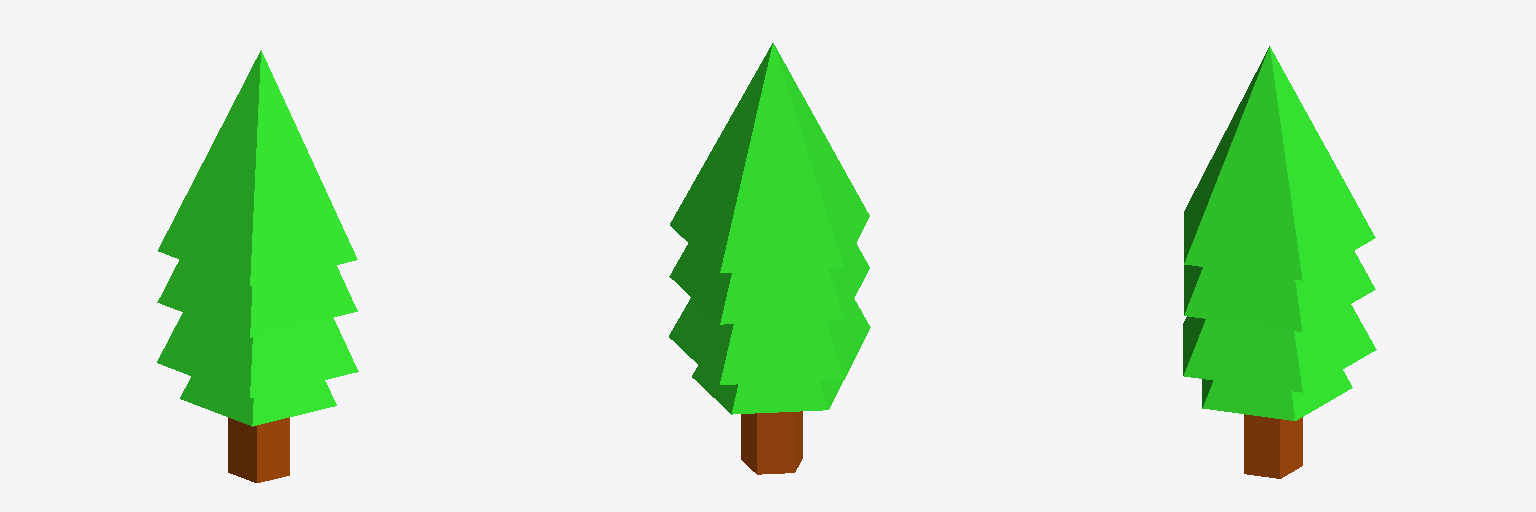
File: sapin.obj
The picture shows the model from 3 angles: view 1: azimuth 30°, elevation 25°; view 2: azimuth 150°, elevation 25°; view 3: azimuth 270°, elevation 25°; orthographic projection.
Visible parts, largest first — view 1: Cone.001, Cone, Cylinder; view 2: Cone, Cone.001, Cylinder; view 3: Cone, Cone.001, Cylinder.
Part boxes in pixels (left/top/right/bottom): Cone.001: left=157, top=260, right=358, bottom=426; Cone: left=158, top=50, right=357, bottom=285; Cylinder: left=228, top=417, right=289, bottom=482; Cone: left=670, top=43, right=869, bottom=272; Cone.001: left=669, top=243, right=870, bottom=414; Cylinder: left=741, top=411, right=802, bottom=474; Cone: left=1184, top=46, right=1375, bottom=280; Cone.001: left=1183, top=251, right=1376, bottom=420; Cylinder: left=1244, top=414, right=1302, bottom=478.
Size of the model in its own units: 1.92 by 4.37 by 1.82.